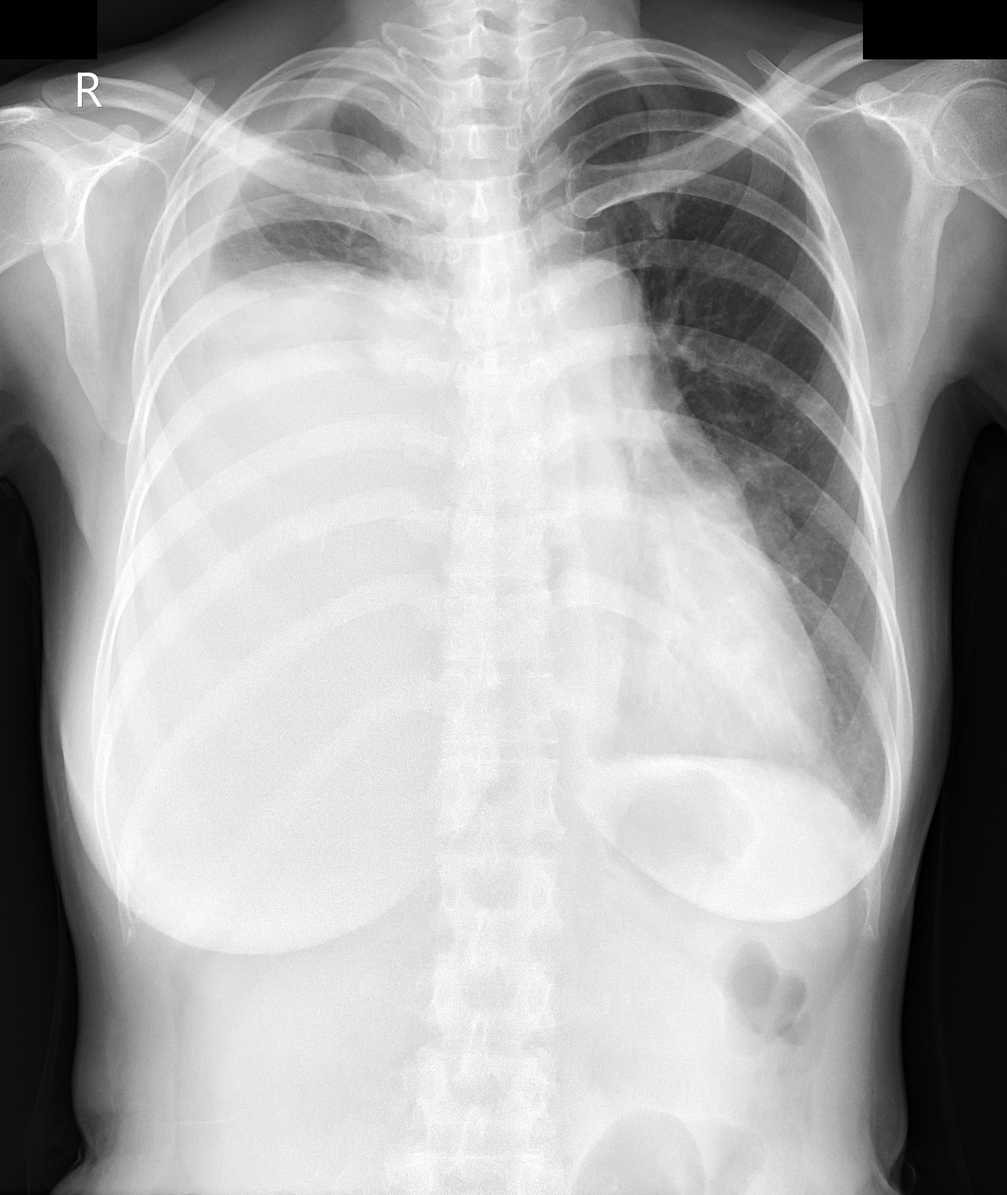Aortic enlargement: (525, 258, 650, 370)
